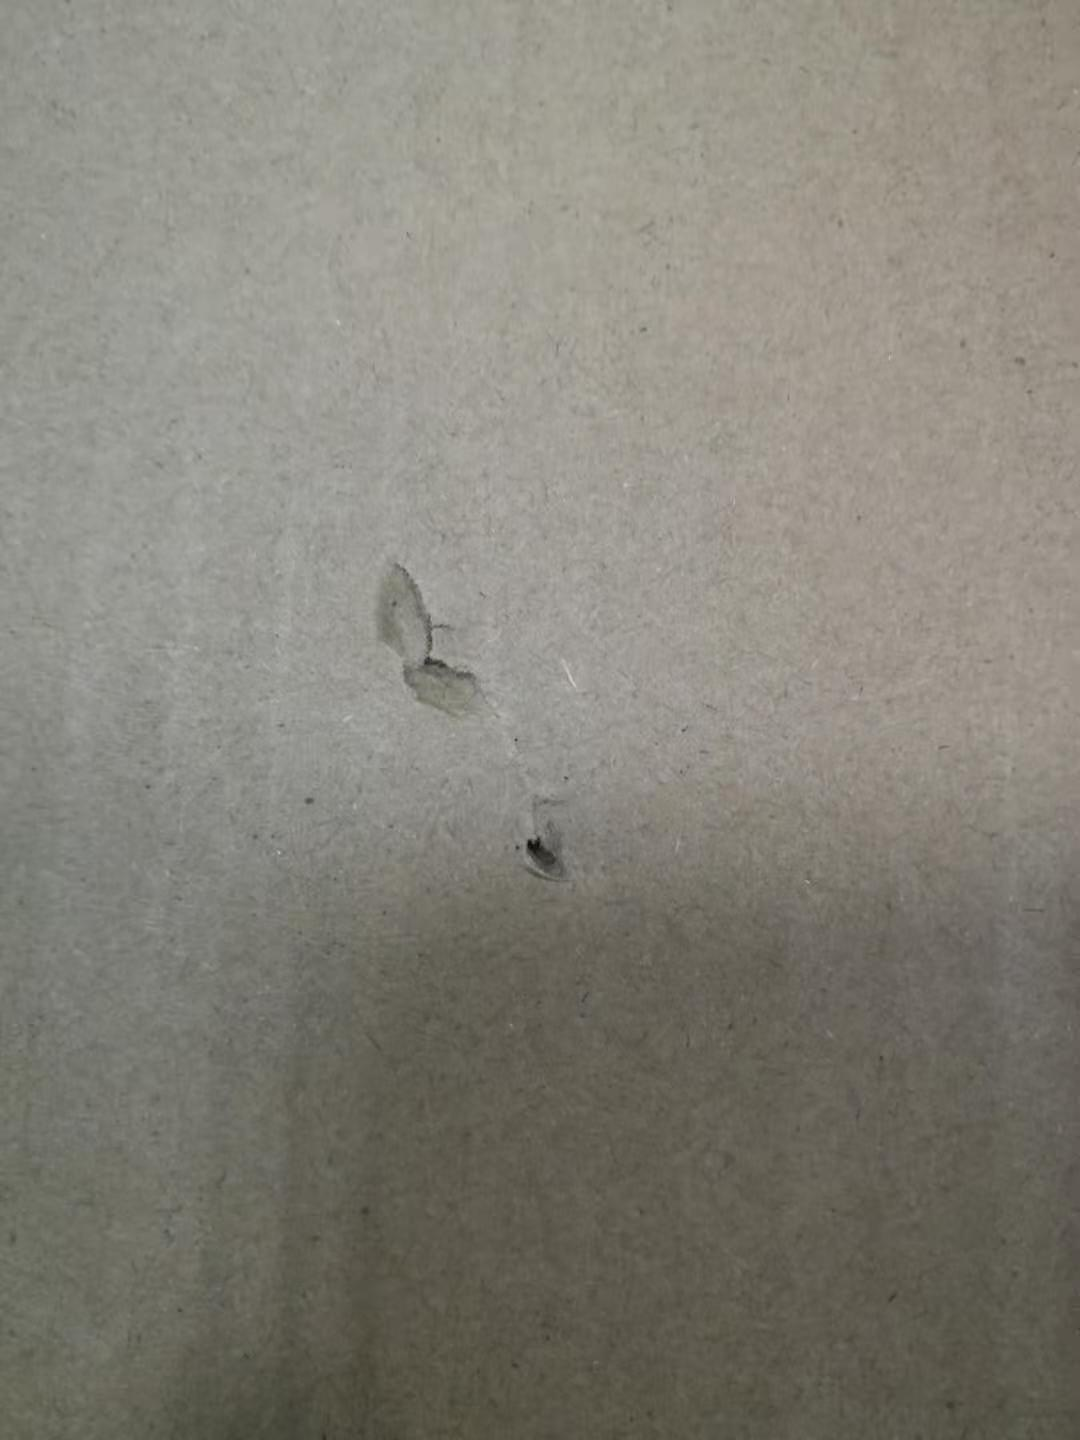defect: (348, 510, 632, 947)
